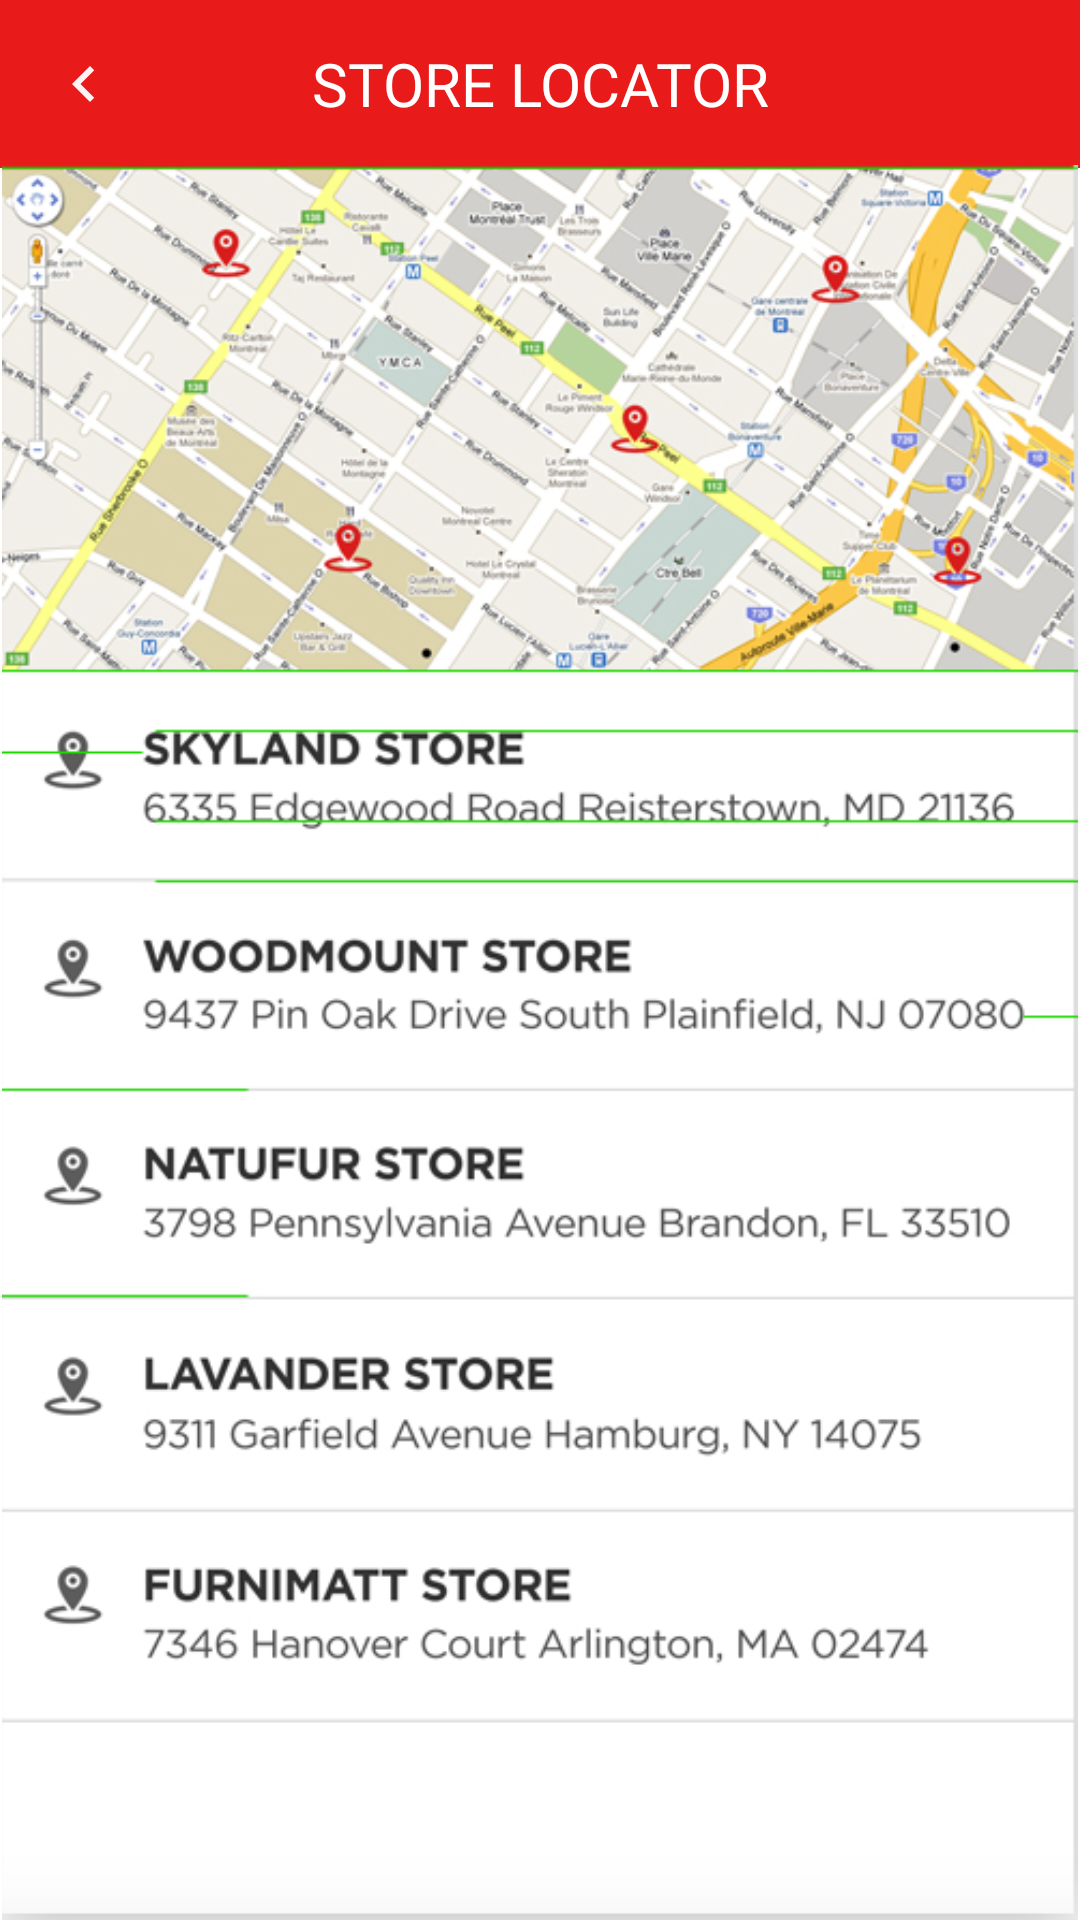

Where to tap for icons on this 1080*1920 app screen, as (x=x, y=y):
chevron left: (x=83, y=84)
